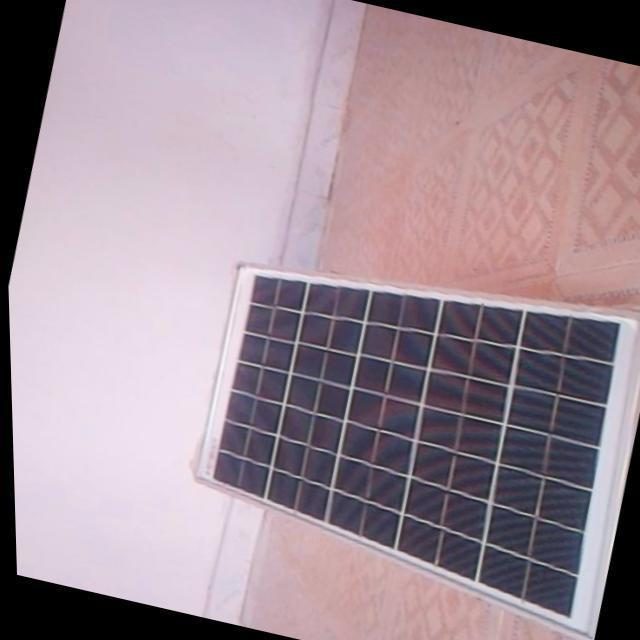Normal Solar Panel: (165, 220, 640, 640)
